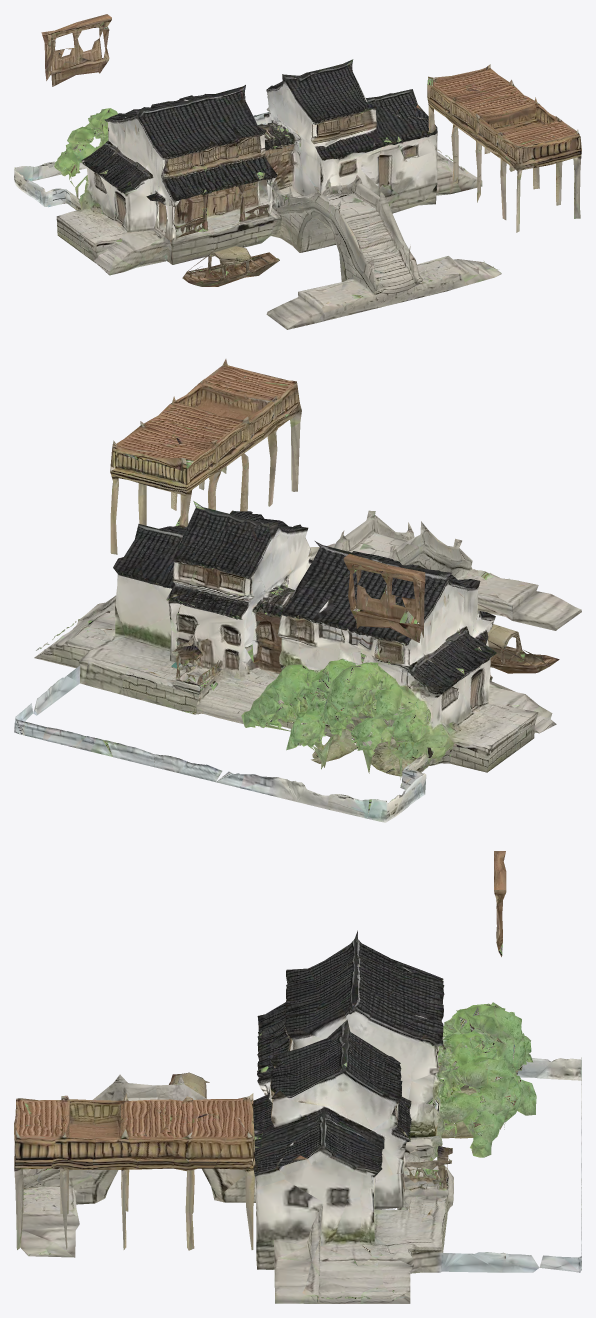
Rendered from bq_canal_house.mid.glb.
The picture shows the model from 3 angles, top to bottom: view 1: azimuth 30°, elevation 25°; view 2: azimuth 150°, elevation 25°; view 3: azimuth 270°, elevation 25°; orthographic projection. The views are drawn at different scales.
Size of the model in its own units: 1.88 by 0.8596 by 1.9.
1 material, 1 textured.
